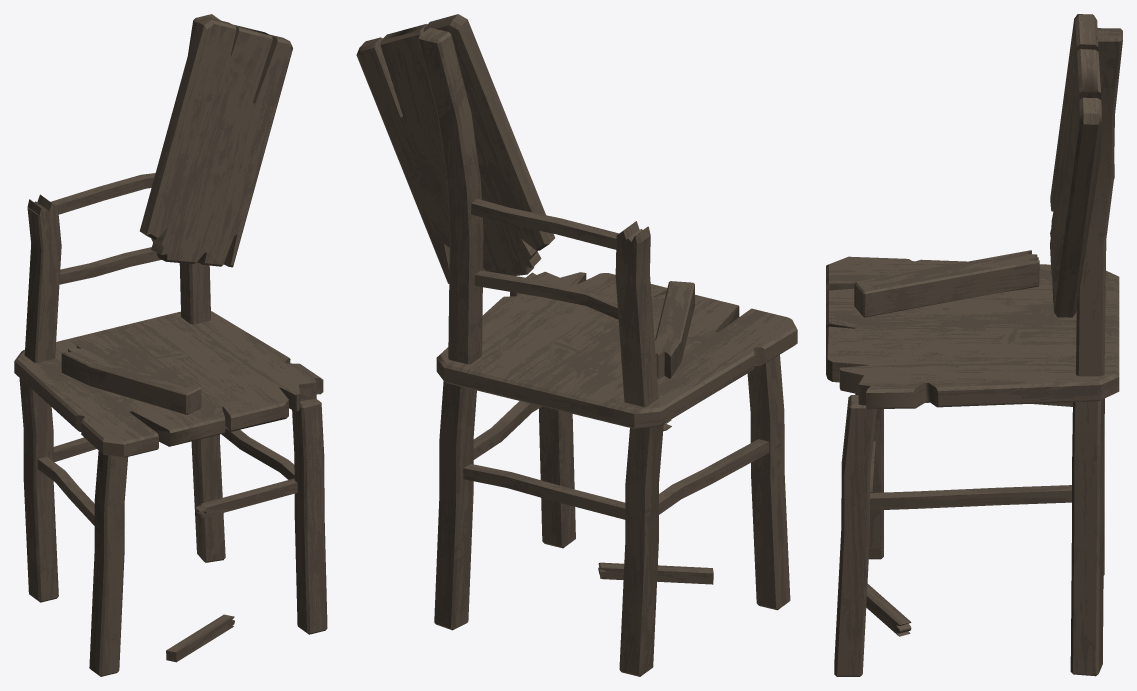
Rendered from Chair.fbx.
The picture shows the model from 3 angles, left to right: view 1: azimuth 30°, elevation 25°; view 2: azimuth 150°, elevation 25°; view 3: azimuth 270°, elevation 25°; orthographic projection. The views are drawn at different scales.
Visible parts, largest first — view 1: pCube17; view 2: pCube17; view 3: pCube17.
Boxes of the visible parts, x1,y1,x2,y2 form: pCube17: (14,14,327,676); pCube17: (356,14,797,676); pCube17: (826,14,1122,676).
Bounding box in the file's own units: 54.97 × 98.46 × 40.51.
